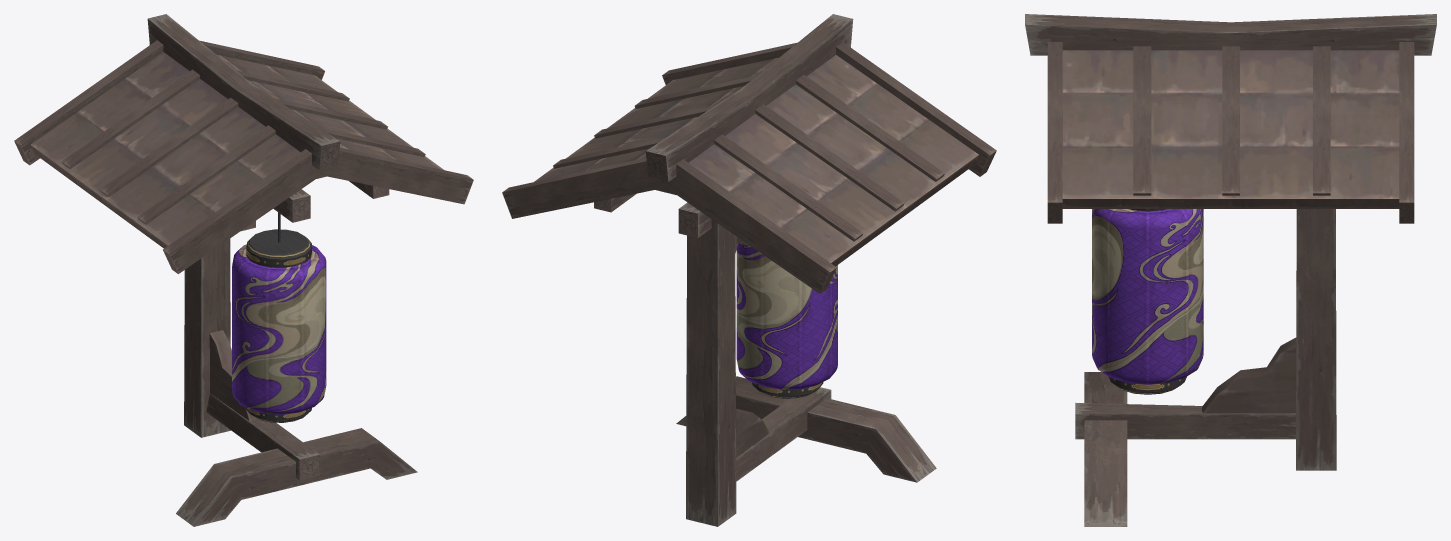
The model's file is Homeworld_Exterior_Dq_Lamp_Lamp_04_Vo.fbx.
3 views of the same model, side by side, from view 1: azimuth 30°, elevation 25°; view 2: azimuth 150°, elevation 25°; view 3: azimuth 270°, elevation 25° (orthographic). The views are drawn at different scales.
Visible parts, largest first — view 1: Homeworld_Interior_Dq_Lamp_Lamp_04_Vo, Area_Dq_Light_MS_LampTS_06_Vo; view 2: Homeworld_Interior_Dq_Lamp_Lamp_04_Vo, Area_Dq_Light_MS_LampTS_06_Vo; view 3: Homeworld_Interior_Dq_Lamp_Lamp_04_Vo, Area_Dq_Light_MS_LampTS_06_Vo.
Part boxes in pixels (<box>): Homeworld_Interior_Dq_Lamp_Lamp_04_Vo: <box>14,14,473,526</box>; Area_Dq_Light_MS_LampTS_06_Vo: <box>232,212,326,422</box>; Homeworld_Interior_Dq_Lamp_Lamp_04_Vo: <box>502,14,996,526</box>; Area_Dq_Light_MS_LampTS_06_Vo: <box>736,243,837,398</box>; Homeworld_Interior_Dq_Lamp_Lamp_04_Vo: <box>1025,14,1436,526</box>; Area_Dq_Light_MS_LampTS_06_Vo: <box>1092,209,1203,394</box>.
Size of the model in its own units: 1.37 by 1.6 by 1.35.
